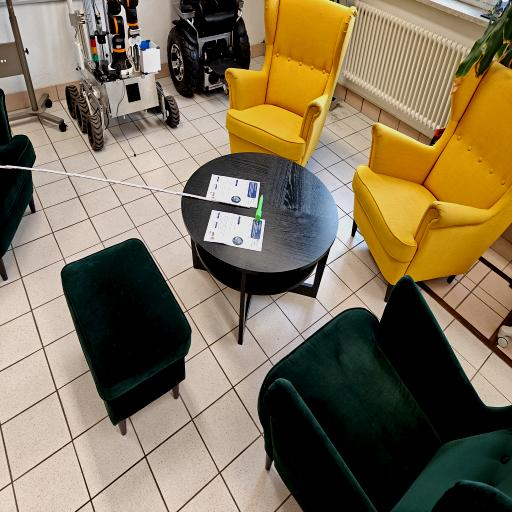Probe-Detection: (255, 194, 263, 221)
